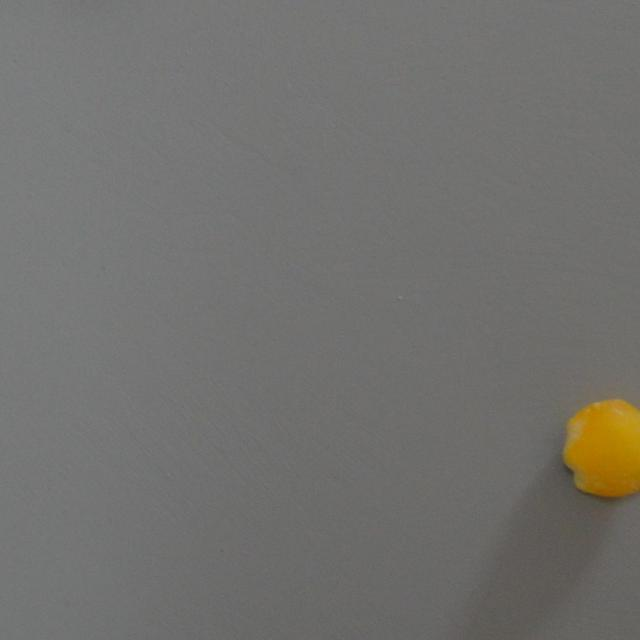pelicula: (558, 396, 640, 502)
